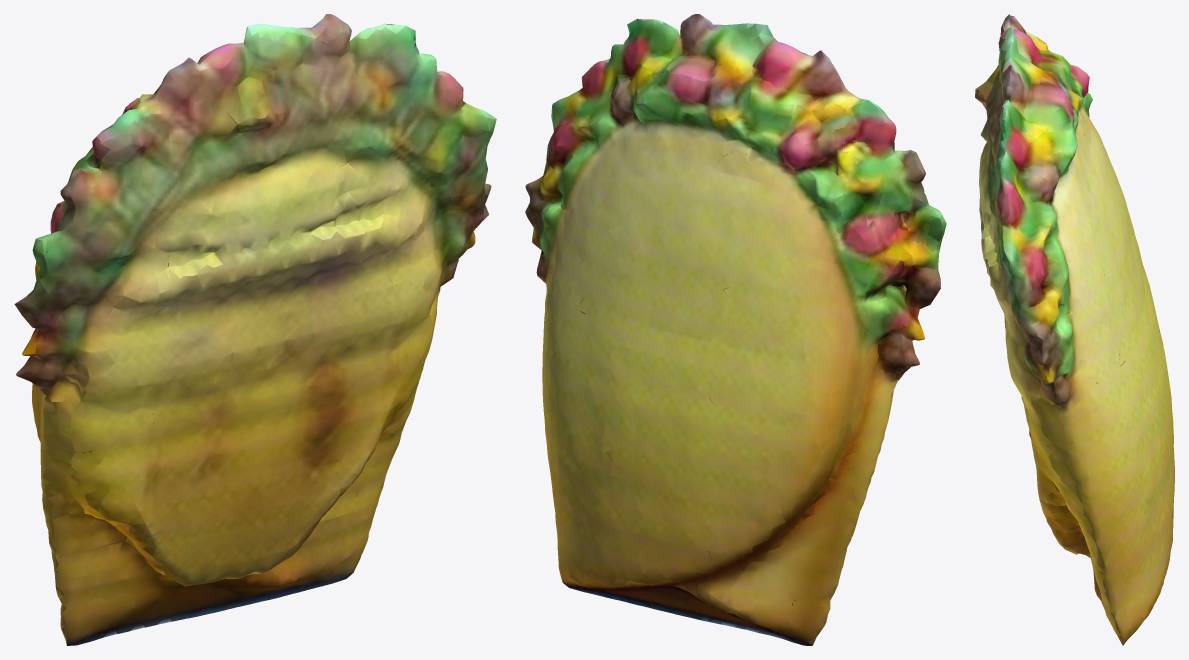
File: taco.glb
3 renders of one model, left to right at view 1: azimuth 30°, elevation 25°; view 2: azimuth 150°, elevation 25°; view 3: azimuth 270°, elevation 25°, orthographic. The views are drawn at different scales.
Parts seen in each view (by area): view 1: world; view 2: world; view 3: world.
Boxes of the visible parts, left/top/right/bottom form: world: left=14, top=14, right=496, bottom=645; world: left=525, top=14, right=946, bottom=645; world: left=975, top=14, right=1174, bottom=645.
Size of the model in its own units: 0.7711 by 0.99 by 0.3248.
1 material, 1 textured.
